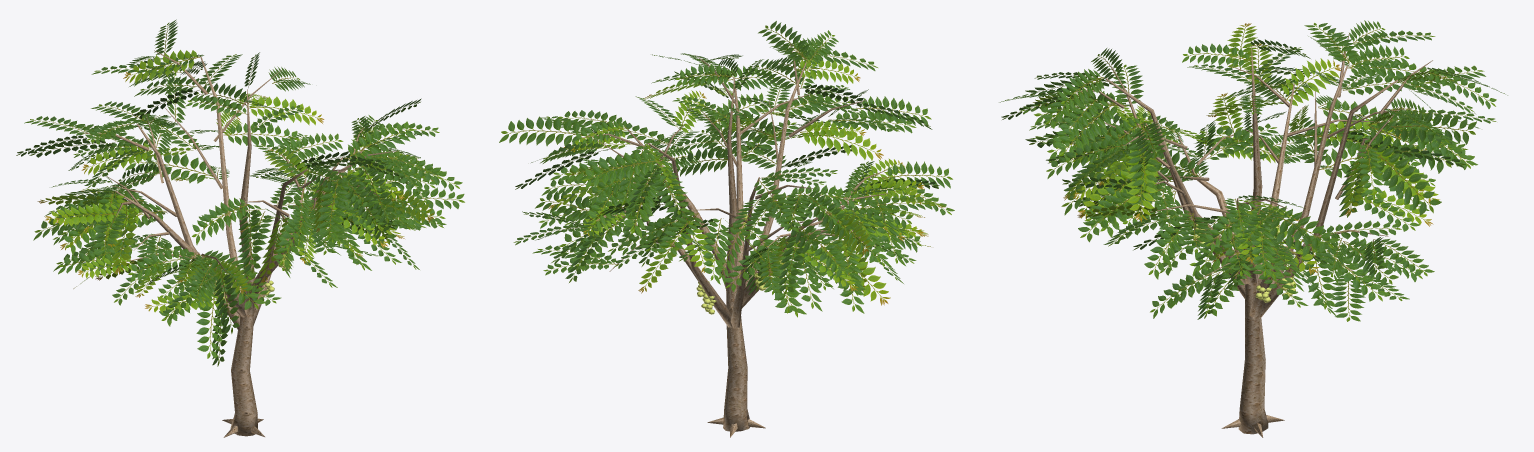
File: StarGooseberryTree_LOD0.fbx
3 views of the same model, side by side, from view 1: azimuth 30°, elevation 25°; view 2: azimuth 150°, elevation 25°; view 3: azimuth 270°, elevation 25° (orthographic). The views are drawn at different scales.
Parts seen in each view (by area): view 1: Leaves_LOD0, Bark_LOD0; view 2: Leaves_LOD0, Bark_LOD0, Fruit_LOD0; view 3: Leaves_LOD0, Bark_LOD0.
Boxes of the visible parts, <box> form: Leaves_LOD0: <box>16,19,464,366</box>; Bark_LOD0: <box>82,50,398,437</box>; Leaves_LOD0: <box>499,21,954,317</box>; Bark_LOD0: <box>582,43,888,437</box>; Fruit_LOD0: <box>696,211,787,314</box>; Leaves_LOD0: <box>999,20,1507,321</box>; Bark_LOD0: <box>1076,33,1432,437</box>.
Bounding box in the file's own units: 615 × 513 × 612.
